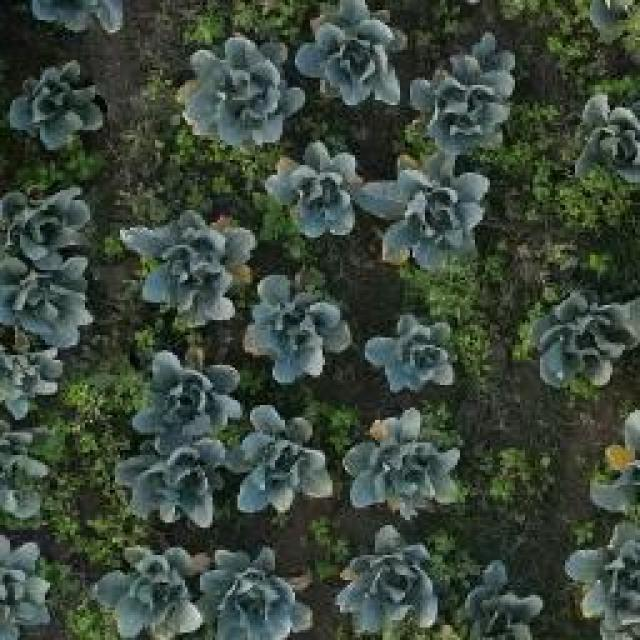cabbage: (121, 211, 255, 330), (344, 411, 466, 524), (173, 25, 285, 143), (128, 340, 240, 458), (372, 150, 482, 268), (526, 286, 640, 395), (412, 40, 526, 146), (230, 405, 336, 518), (243, 271, 347, 385), (296, 4, 401, 110), (337, 539, 444, 640), (92, 542, 200, 640), (202, 549, 310, 640), (8, 54, 106, 153), (119, 437, 227, 525), (264, 142, 360, 236), (0, 258, 95, 350), (360, 311, 458, 394), (452, 558, 545, 640), (0, 182, 99, 258), (565, 92, 640, 188)
